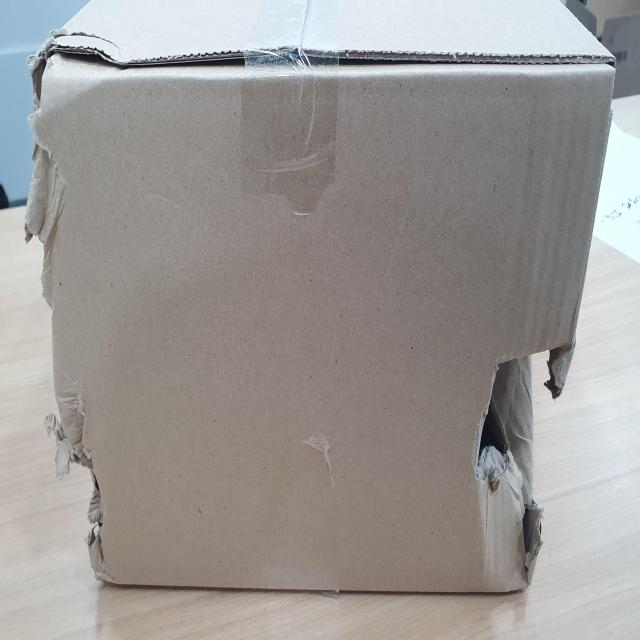damaged: (483, 333, 576, 590), (58, 384, 111, 577)
